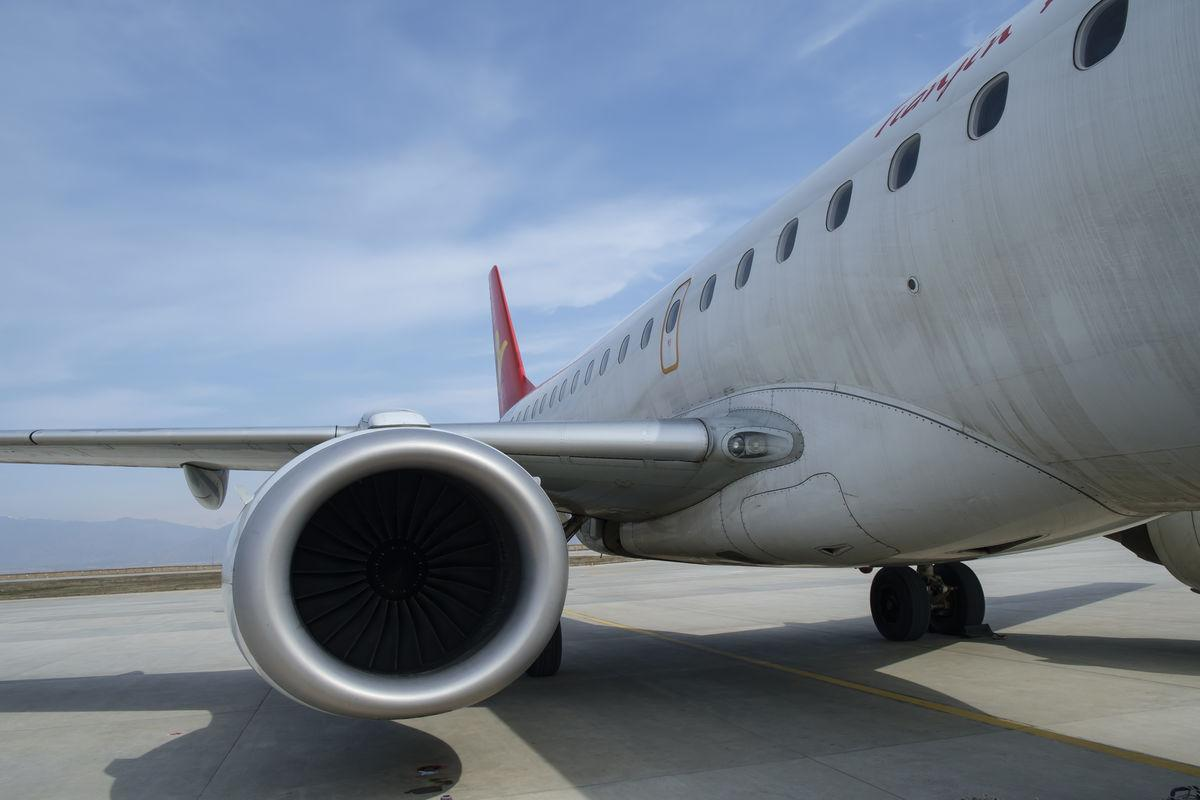airplane: (105, 1, 1200, 683)
